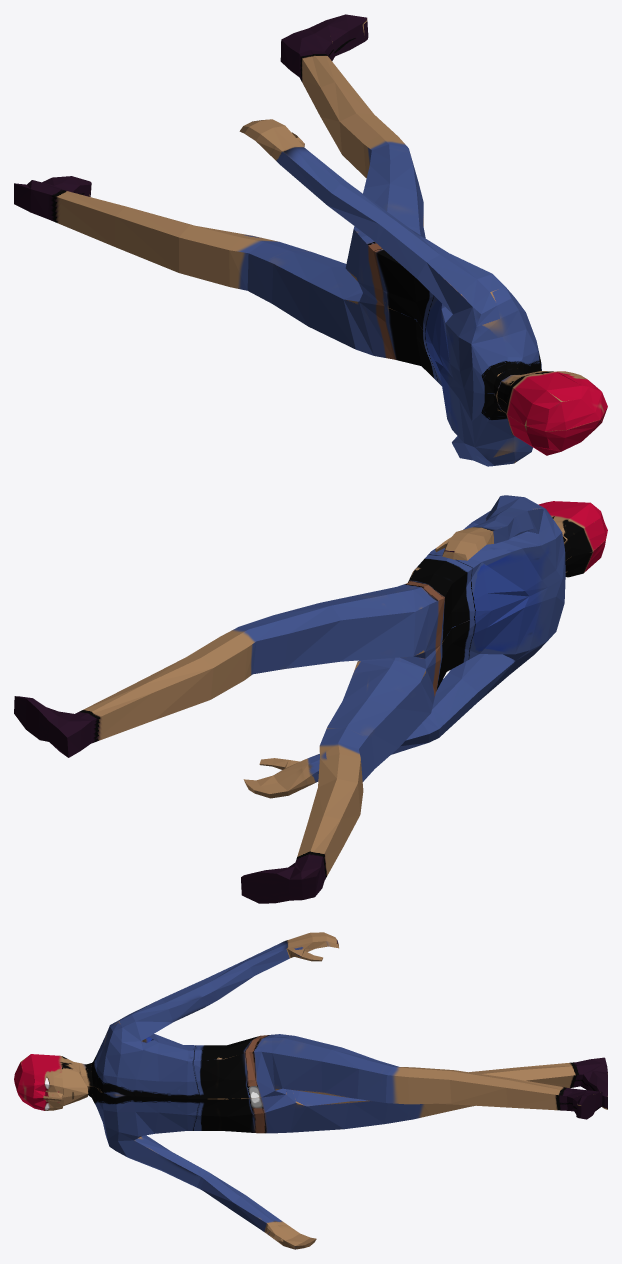
The model's file is mirrorman_000010.obj.
3 views of the same model, one above another, from view 1: azimuth 30°, elevation 25°; view 2: azimuth 150°, elevation 25°; view 3: azimuth 270°, elevation 25° (orthographic). The views are drawn at different scales.
Visible parts, largest first — view 1: mirrorman_Cube.001_Material.001; view 2: mirrorman_Cube.001_Material.001; view 3: mirrorman_Cube.001_Material.001.
Boxes of the visible parts, x1,y1,x2,y2 form: mirrorman_Cube.001_Material.001: (14,14,607,466); mirrorman_Cube.001_Material.001: (14,495,607,903); mirrorman_Cube.001_Material.001: (14,932,607,1249).
Bounding box in the file's own units: 0.8463 × 0.8055 × 1.85.
1 material, 1 textured.
